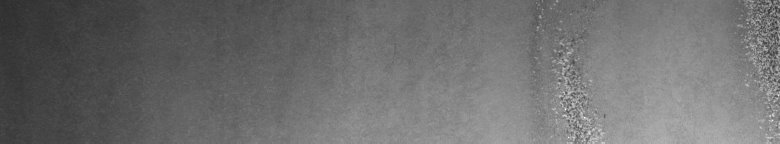hc: (735, 4, 776, 128)
